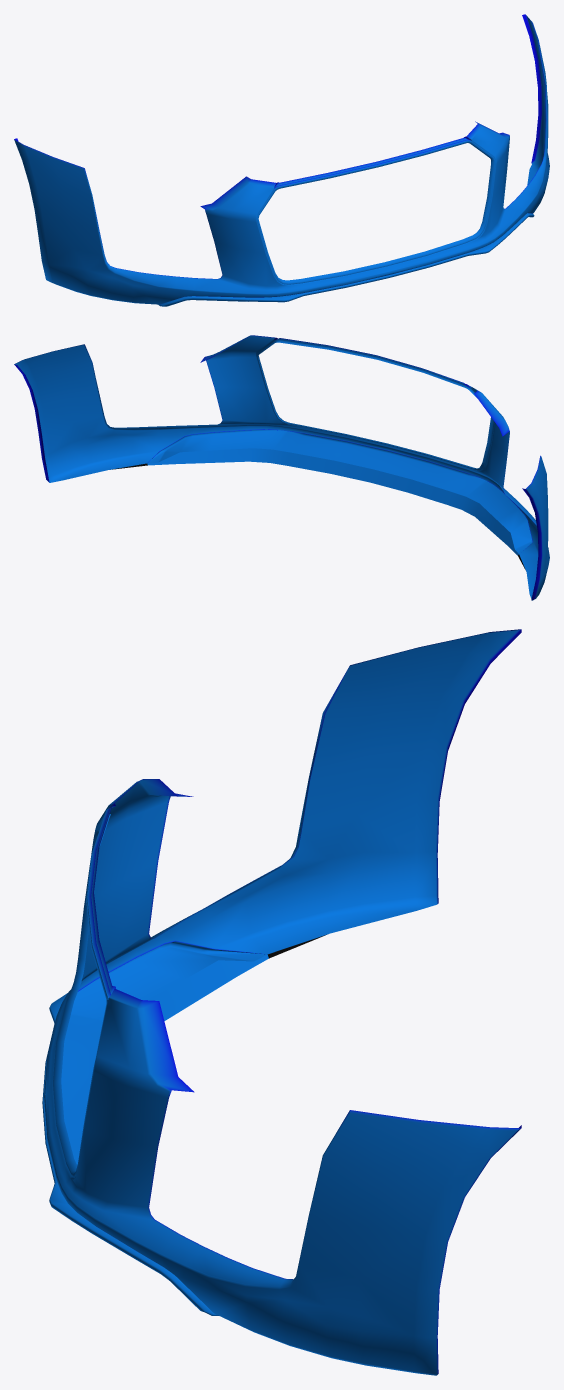
Rendered from AudiR8_FB01_Duco.fbx.
3 renders of one model, top to bottom at view 1: azimuth 30°, elevation 25°; view 2: azimuth 150°, elevation 25°; view 3: azimuth 270°, elevation 25°, orthographic. The views are drawn at different scales.
Parts seen in each view (by area): view 1: AudiR8_FB01_Duco; view 2: AudiR8_FB01_Duco; view 3: AudiR8_FB01_Duco.
Part boxes in pixels (left/top/right/bottom): AudiR8_FB01_Duco: left=14, top=14, right=549, bottom=306; AudiR8_FB01_Duco: left=14, top=335, right=549, bottom=600; AudiR8_FB01_Duco: left=42, top=629, right=521, bottom=1375.
Bounding box in the file's own units: 187 × 45.65 × 75.81.
